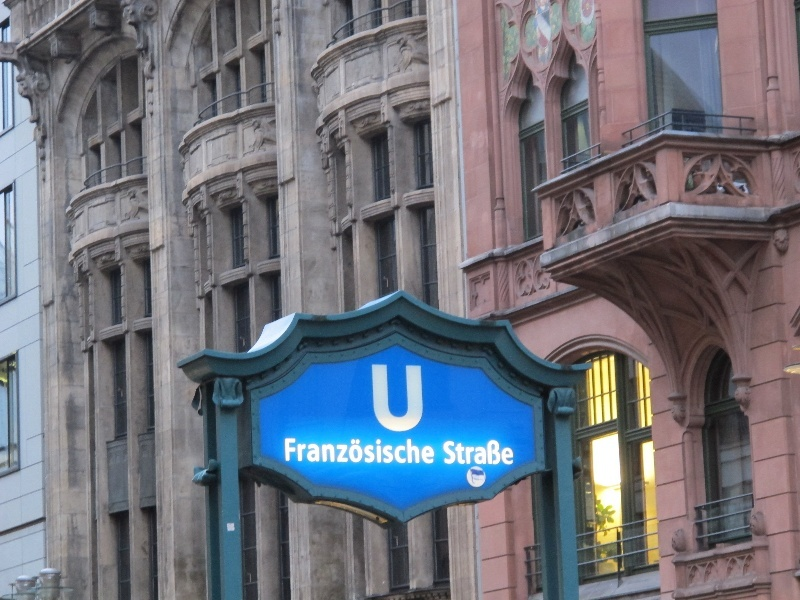text: (385, 364, 400, 434), (401, 364, 416, 434), (371, 364, 384, 434), (417, 364, 426, 434), (449, 438, 464, 466), (465, 438, 480, 466), (481, 438, 496, 466), (497, 438, 512, 466), (289, 438, 304, 465), (305, 438, 320, 465), (321, 438, 336, 465), (337, 438, 352, 465), (353, 438, 368, 465), (369, 438, 384, 465), (385, 438, 400, 465), (401, 438, 416, 465), (417, 438, 432, 465), (442, 438, 448, 466), (284, 438, 288, 465), (433, 438, 436, 465), (513, 438, 514, 466)
